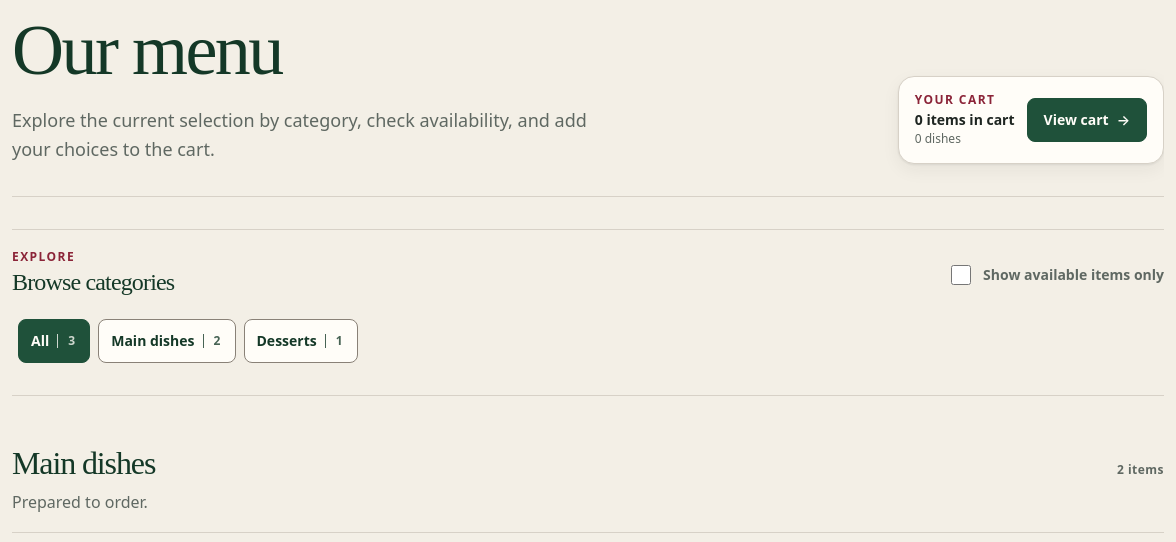
Scenario: MenuPage › assigns priority only to the first rendered card and updates after filtering
Click the button "Desserts 1" at (301, 341), box [244,319,358,363]
(page scrolled)
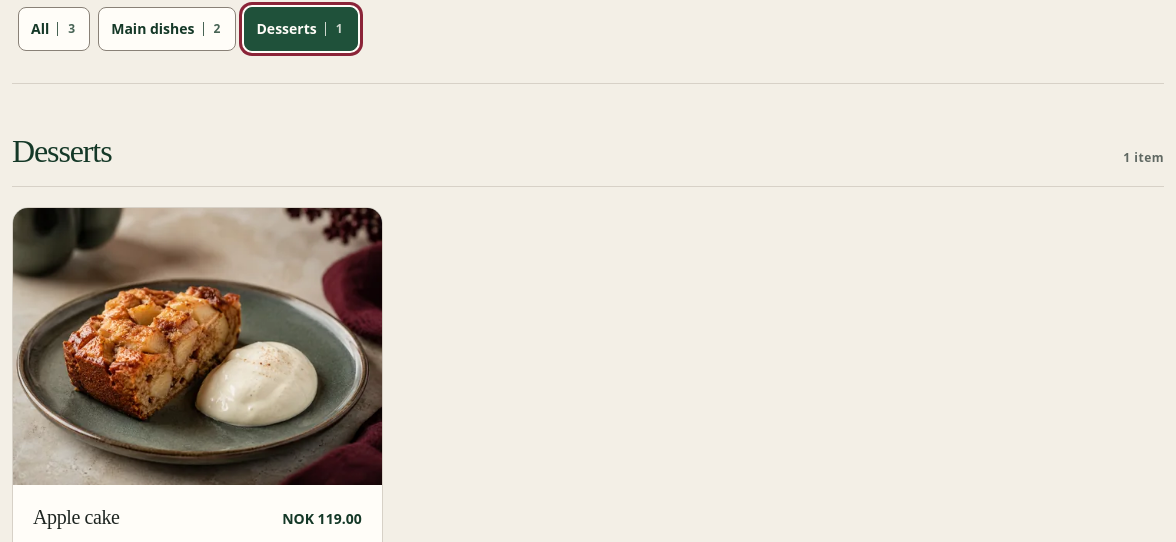
Result: the number of pictures is 1 at [13,208,382,485]
